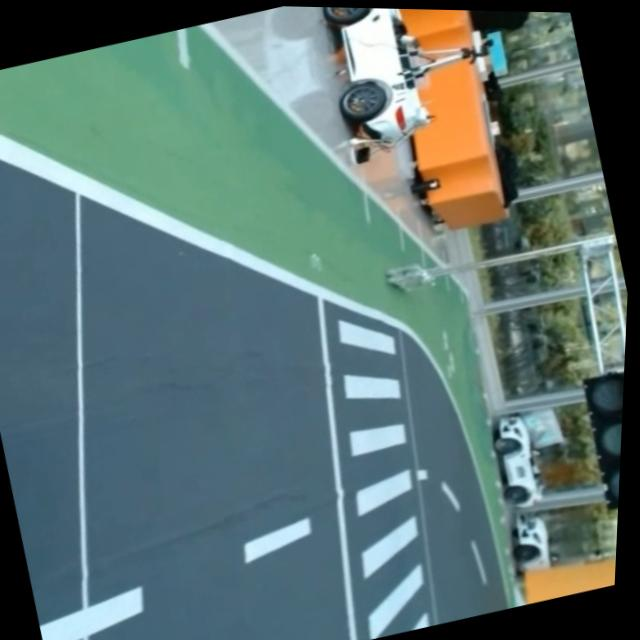traffic-light: (572, 356, 625, 520)
